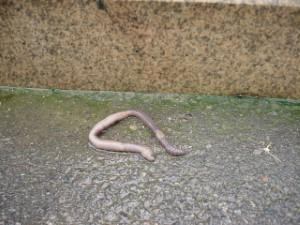earthworms: (75, 98, 204, 177), (101, 81, 132, 95)
